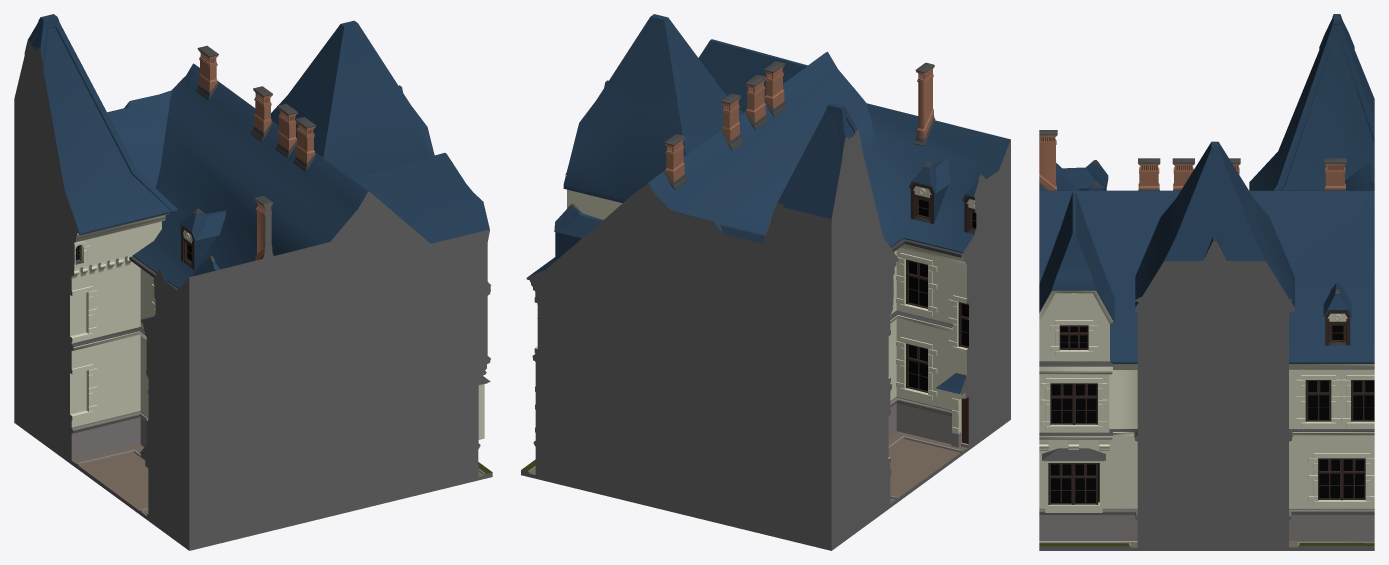
3 views of the same model, side by side, from view 1: azimuth 30°, elevation 25°; view 2: azimuth 150°, elevation 25°; view 3: azimuth 270°, elevation 25° (orthographic). The views are drawn at different scales.
Visible parts, largest first — view 1: Plane.004; view 2: Plane.004; view 3: Plane.004.
Part boxes in pixels (x1,y1,x2,y2): Plane.004: (14,14,492,550); Plane.004: (521,14,1010,550); Plane.004: (1039,14,1374,550).
Bounding box in the file's own units: 4 × 5.25 × 4.
